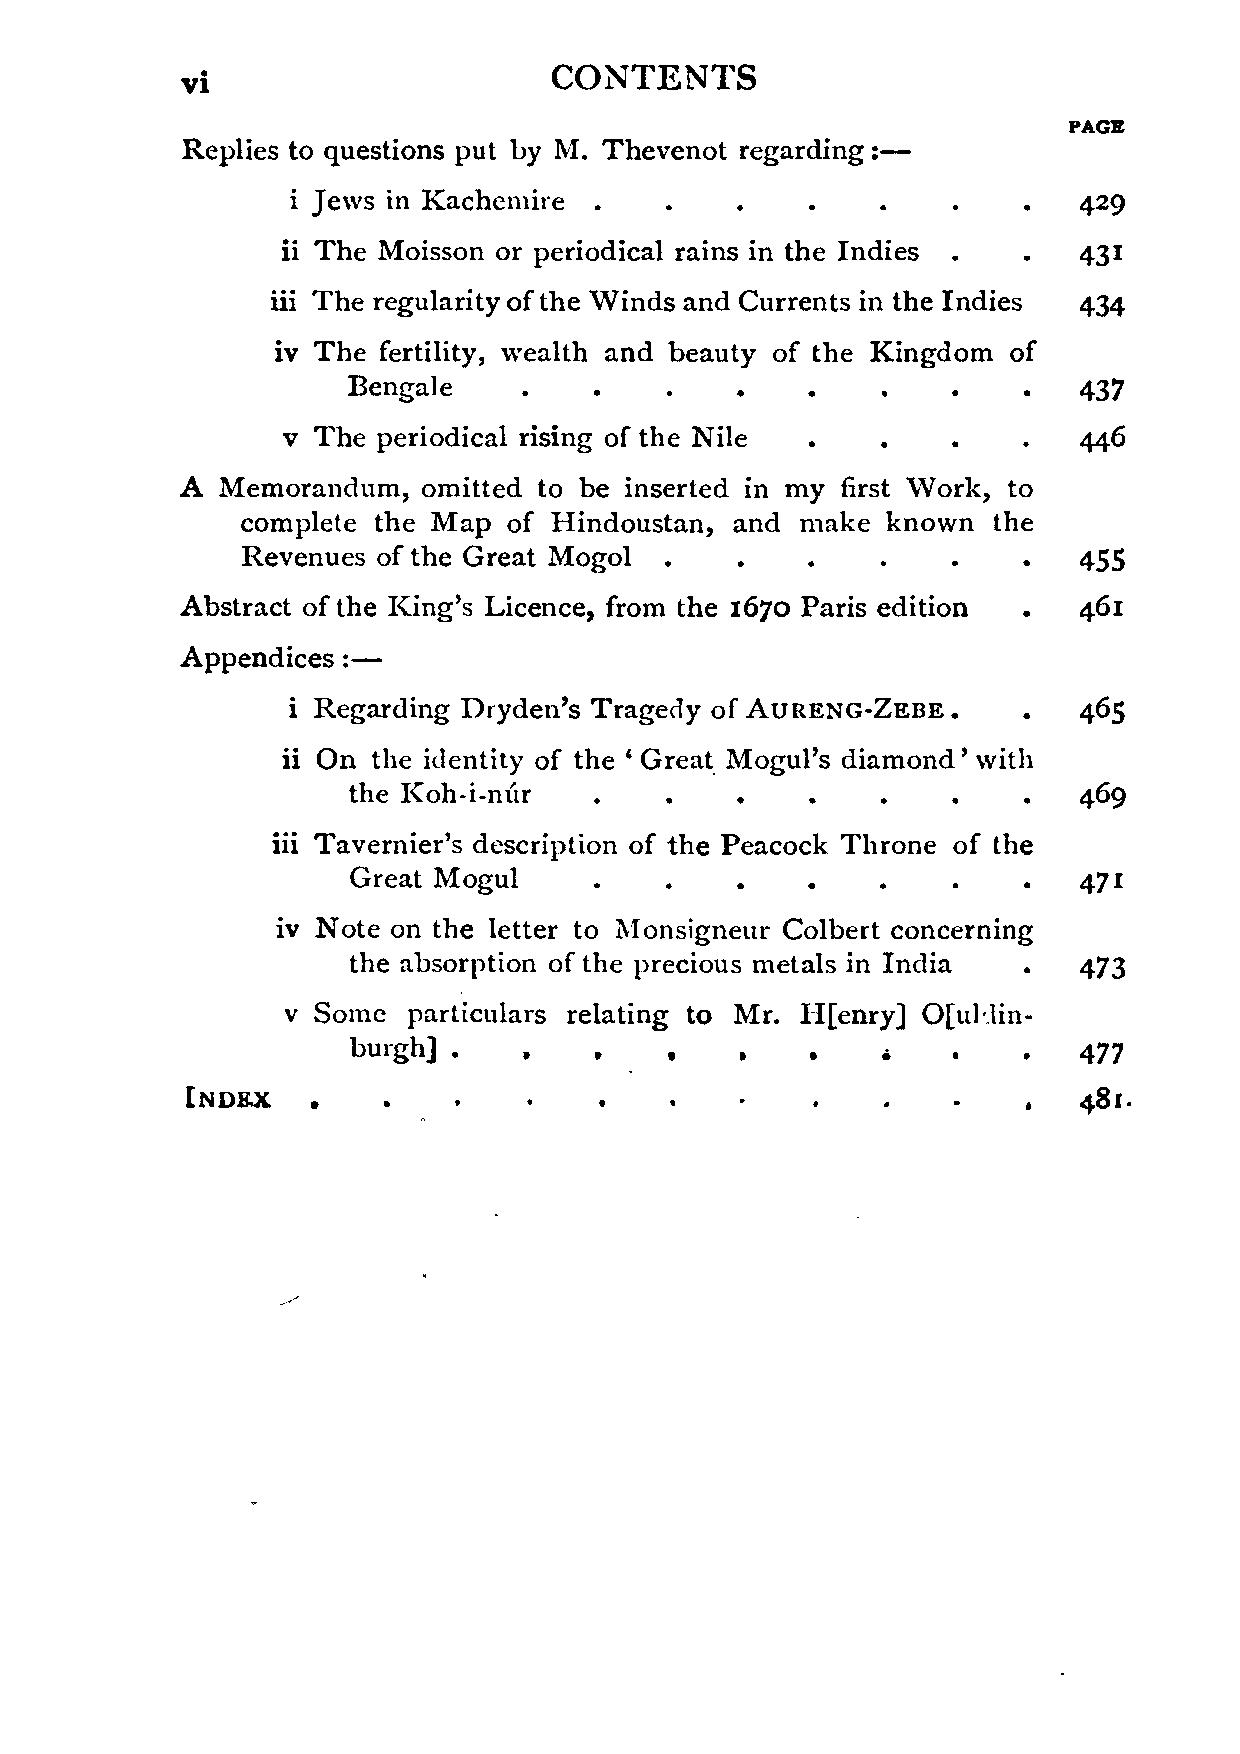TOC_chapter: (176, 466, 1033, 573), (260, 903, 1049, 989), (276, 992, 1049, 1076), (254, 816, 1044, 898), (268, 336, 1045, 407), (279, 739, 1036, 808), (173, 585, 969, 623), (280, 686, 958, 729), (263, 283, 1029, 321), (268, 228, 923, 271), (280, 417, 745, 454), (276, 178, 568, 216), (169, 1072, 278, 1117)
TOC_pagenumber: (1070, 1029, 1127, 1072), (1078, 176, 1129, 224), (1072, 1086, 1142, 1121), (1082, 690, 1134, 735), (1075, 772, 1127, 817), (1075, 946, 1129, 989), (1068, 858, 1129, 895), (1078, 585, 1127, 629), (1079, 229, 1125, 275), (1078, 423, 1127, 459), (1078, 544, 1127, 580), (1079, 283, 1127, 319), (1075, 372, 1125, 404)
chapter: (542, 56, 758, 93)
